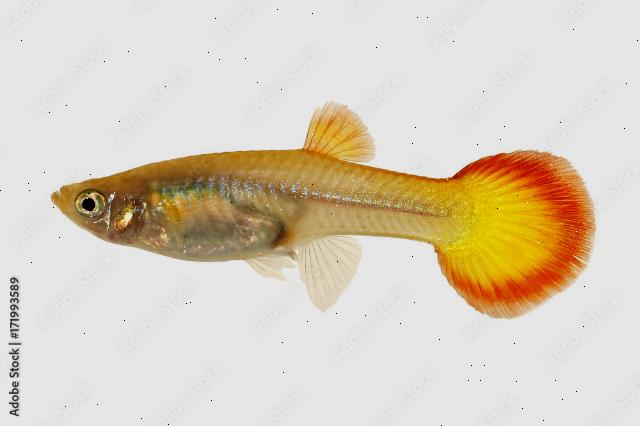Mulut: (33, 170, 91, 242)
Sirip Anal: (304, 236, 361, 313)
Sirip Dada: (141, 162, 241, 266)
Sirip Ekor: (433, 147, 596, 319)
Sirip Perut: (227, 242, 305, 293)
Sirip Punggung: (303, 101, 380, 163)
